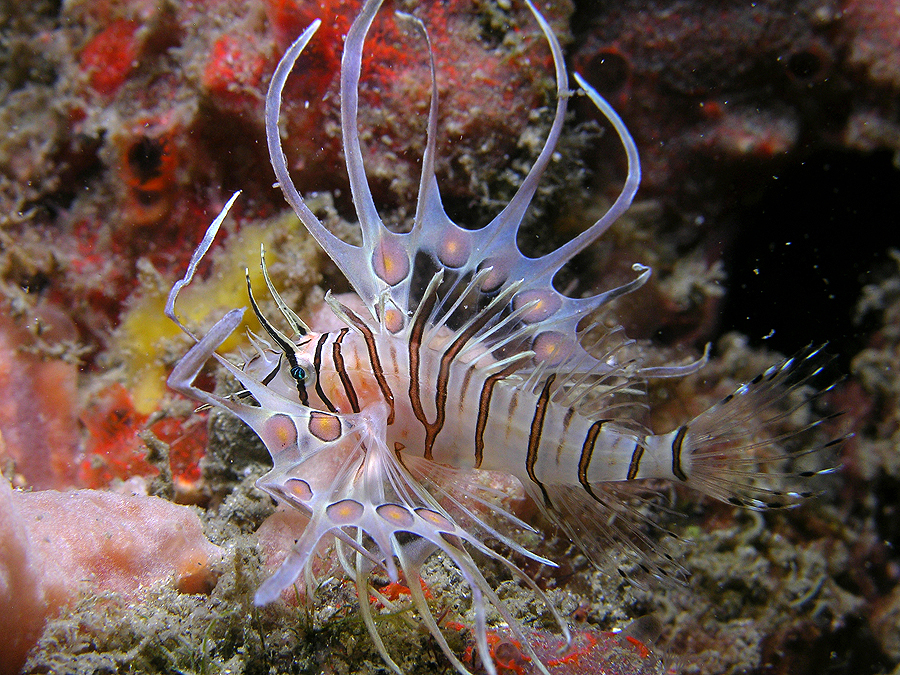Pterois_volitans: (162, 128, 723, 593)
